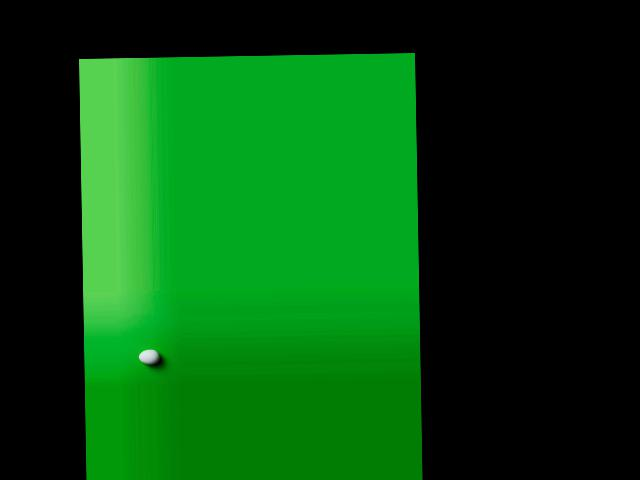egg: (138, 349, 160, 364)
